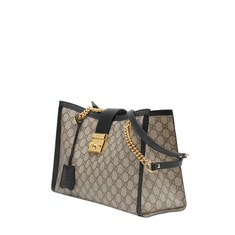Gucci: (54, 87, 192, 215), (81, 156, 135, 200)
